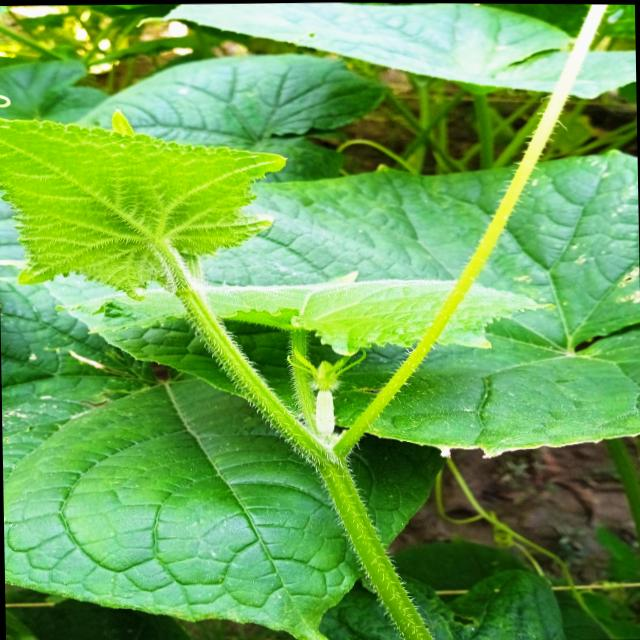Fresh-Leaf: (0, 117, 291, 306)
